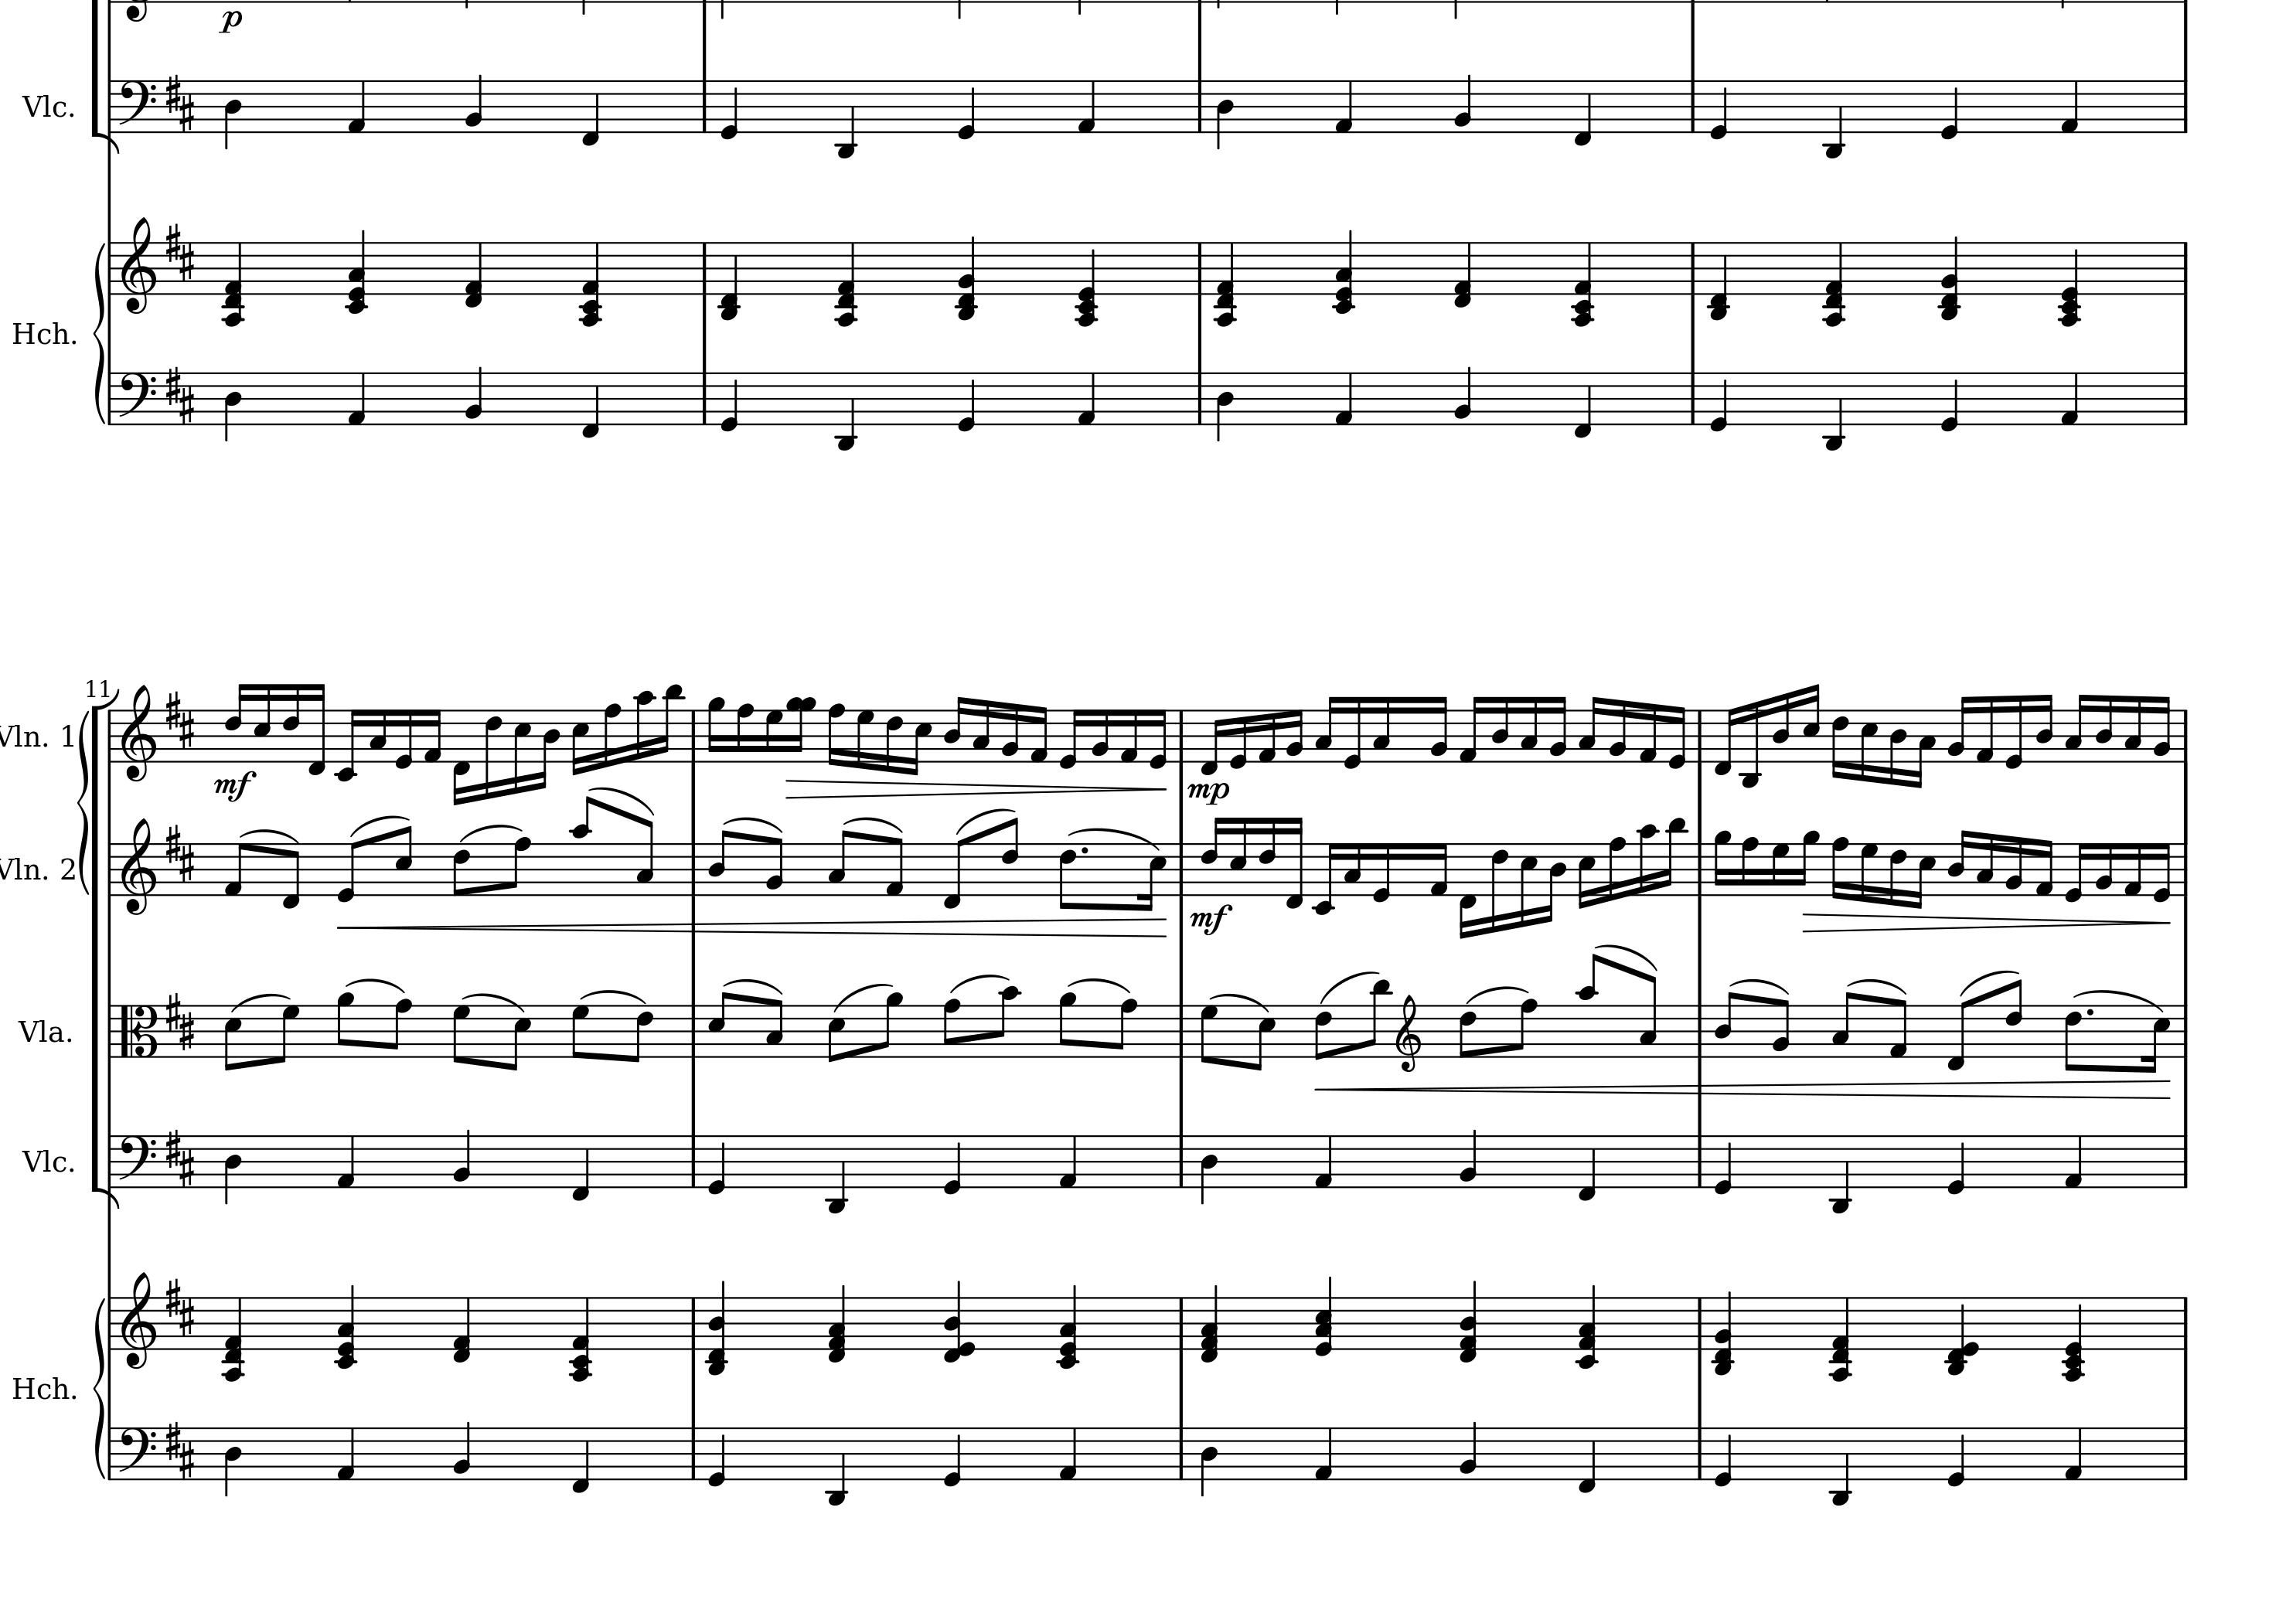1: (84, 676, 97, 697), (98, 676, 109, 697)
16_-1: (306, 680, 327, 776), (451, 708, 471, 804), (1284, 815, 1303, 910), (1460, 843, 1477, 938), (1200, 708, 1223, 776), (1715, 706, 1736, 775)
16_-2: (1312, 840, 1337, 915), (336, 706, 360, 780)
16_-3: (1739, 701, 1760, 789)
16_0: (1058, 706, 1084, 769), (2064, 840, 2089, 903), (2004, 692, 2024, 769), (1342, 694, 1361, 769), (1147, 708, 1168, 769), (1228, 708, 1249, 769), (1667, 704, 1686, 769), (1372, 840, 1391, 903), (393, 708, 413, 769), (2152, 841, 2171, 903)
16_1: (1458, 694, 1483, 764), (1975, 694, 1994, 764), (1637, 701, 1658, 764), (1028, 704, 1049, 764), (2032, 838, 2054, 898), (2122, 840, 2141, 898), (1119, 708, 1138, 764), (1258, 708, 1277, 764), (423, 708, 443, 762), (1430, 841, 1449, 896)
16_10: (632, 689, 655, 764), (1637, 822, 1658, 896)
16_11: (657, 682, 683, 764), (1662, 817, 1686, 898)
16_2: (1946, 694, 1969, 762), (1428, 696, 1449, 764), (2152, 694, 2171, 764), (1548, 694, 1567, 762), (1607, 697, 1627, 762), (1000, 701, 1019, 764), (2094, 840, 2115, 898), (2004, 834, 2024, 896), (1089, 708, 1110, 764), (1284, 708, 1303, 764)
16_3: (2062, 692, 2089, 762), (1913, 708, 1936, 789), (1578, 694, 1602, 762), (1314, 694, 1337, 764), (2122, 694, 2143, 762), (1372, 694, 1391, 762), (1520, 696, 1539, 762), (971, 697, 991, 762), (1975, 831, 1994, 896), (1342, 840, 1361, 896), (367, 708, 386, 762)
16_4: (536, 708, 560, 790), (1542, 841, 1567, 924), (943, 694, 968, 762), (1946, 827, 1971, 896), (1771, 690, 1792, 762), (1888, 708, 1908, 785), (2094, 692, 2115, 762), (2034, 692, 2054, 762), (1490, 694, 1509, 762)
16_5: (1137, 841, 1166, 913), (2141, 1003, 2170, 1075), (1228, 815, 1249, 896), (908, 708, 933, 776), (1911, 841, 1936, 910), (513, 708, 532, 794), (1801, 682, 1820, 762), (1520, 840, 1537, 927), (1859, 708, 1878, 782), (253, 682, 271, 762), (569, 708, 588, 776), (1576, 841, 1595, 908)
16_6: (1200, 815, 1224, 896), (223, 682, 248, 761), (483, 706, 502, 799), (1490, 841, 1509, 933), (281, 682, 300, 762), (1258, 815, 1277, 896), (1830, 708, 1850, 780), (884, 706, 903, 773), (1888, 840, 1908, 906)
16_7: (856, 706, 875, 769), (1859, 840, 1878, 903), (762, 708, 783, 764), (1769, 841, 1790, 898)
16_8: (601, 703, 622, 768), (826, 701, 845, 768), (1606, 836, 1625, 903), (1830, 834, 1850, 901), (1739, 834, 1758, 898), (734, 703, 754, 764)
16_9: (791, 696, 817, 764), (1795, 829, 1820, 898), (706, 696, 726, 764), (1713, 829, 1732, 898)
4_-1: (580, 77, 601, 146), (1572, 77, 1593, 146), (580, 369, 601, 437), (1572, 369, 1593, 437), (1576, 1133, 1597, 1201), (569, 1425, 590, 1493), (1576, 1425, 1597, 1493), (571, 1131, 590, 1201)
4_-1_1: (1451, 239, 1474, 309), (464, 241, 487, 309)
4_-3: (826, 1423, 848, 1507), (1829, 1423, 1852, 1507), (834, 77, 857, 160), (1822, 369, 1845, 451), (1822, 77, 1845, 158), (834, 371, 857, 451), (1829, 1133, 1852, 1214), (826, 1131, 847, 1214)
4_-3_-1: (1704, 241, 1732, 321), (717, 241, 741, 320)
4_0: (718, 77, 740, 141), (706, 1425, 727, 1488), (1713, 1425, 1734, 1488), (718, 371, 740, 432), (706, 1133, 727, 1194), (1713, 1133, 1734, 1194), (957, 77, 977, 141), (1709, 77, 1729, 141), (1939, 77, 1959, 141), (942, 1425, 961, 1488), (1946, 1425, 1966, 1488), (957, 371, 977, 432), (1709, 371, 1729, 432), (1939, 371, 1959, 432), (942, 1133, 961, 1194), (1946, 1133, 1966, 1194)
4_0_2: (451, 1295, 473, 1363)
4_1: (2059, 371, 2080, 427), (336, 1133, 357, 1189), (1058, 1133, 1079, 1189), (1312, 1133, 1333, 1189), (2062, 1133, 2083, 1189), (1333, 79, 1354, 133), (2059, 79, 2080, 133), (1333, 371, 1354, 425), (336, 1426, 357, 1481), (1058, 1426, 1079, 1481), (2062, 1426, 2083, 1481), (1077, 371, 1096, 427), (348, 79, 367, 133), (1077, 79, 1096, 133), (348, 371, 367, 425), (1314, 1426, 1333, 1481)
4_2: (464, 72, 485, 133), (1453, 72, 1474, 133), (464, 364, 485, 425), (1453, 364, 1474, 425), (1458, 1128, 1479, 1189), (451, 1419, 473, 1481), (1458, 1419, 1479, 1481), (453, 1128, 473, 1189)
4_4: (223, 369, 244, 441), (223, 1425, 244, 1495), (1216, 369, 1235, 441), (223, 1133, 242, 1205), (1200, 1133, 1219, 1205), (1200, 1425, 1219, 1497), (1216, 77, 1235, 148), (223, 79, 242, 148)
4_th: (567, 1295, 594, 1381), (706, 1279, 729, 1377), (1212, 242, 1238, 327), (1332, 228, 1356, 314), (954, 235, 978, 321), (221, 241, 246, 327), (334, 1284, 358, 1370), (221, 1296, 246, 1382), (1829, 1296, 1853, 1382), (1056, 1284, 1080, 1368), (1574, 1284, 1599, 1368), (1711, 1291, 1736, 1375), (1073, 244, 1098, 327), (2061, 1300, 2085, 1381), (344, 228, 367, 314), (834, 241, 857, 327), (1570, 241, 1593, 327), (1938, 235, 1960, 320), (1823, 242, 1846, 327), (2057, 244, 2080, 327), (1312, 1275, 1335, 1356), (580, 241, 601, 327), (1458, 1280, 1479, 1363), (826, 1284, 847, 1363), (1200, 1284, 1219, 1363)
8_-1: (942, 834, 970, 910), (1945, 998, 1973, 1073), (281, 841, 300, 910)
8_0: (336, 838, 362, 903)
8_1: (221, 840, 248, 896), (884, 834, 905, 898), (1887, 998, 1908, 1059)
8_10: (1576, 952, 1604, 1061), (567, 794, 596, 898), (993, 985, 1019, 1059)
8_11: (1363, 977, 1391, 1057)
8_2: (764, 834, 783, 898), (1771, 996, 1790, 1059)
8_3: (1637, 971, 1658, 1061), (826, 829, 852, 898), (1830, 991, 1857, 1059), (636, 817, 655, 898), (764, 998, 783, 1059)
8_4: (1713, 991, 1739, 1059), (706, 829, 733, 896)
8_5: (506, 1003, 532, 1071), (1251, 1003, 1277, 1071), (706, 989, 731, 1057), (393, 824, 413, 896), (223, 1003, 242, 1071), (826, 1003, 845, 1063)
8_6: (2004, 977, 2024, 1059), (1000, 817, 1019, 896), (629, 1001, 653, 1063), (2062, 1003, 2083, 1071), (1058, 841, 1077, 910), (1314, 1003, 1333, 1061), (451, 841, 471, 898), (1458, 1003, 1477, 1059)
8_7: (274, 1003, 300, 1063), (451, 1003, 471, 1064), (1200, 1003, 1219, 1064), (571, 1003, 590, 1059)
8_8: (504, 834, 531, 898), (386, 998, 413, 1059), (1110, 998, 1137, 1059), (1513, 996, 1537, 1057), (942, 998, 961, 1059)
8_9: (877, 991, 903, 1057), (336, 991, 355, 1057), (1058, 991, 1077, 1057)
Brace: (91, 239, 105, 425), (76, 706, 90, 892), (91, 1295, 105, 1481)
Bracke: (91, 645, 119, 1105)
Cclef: (118, 1001, 158, 1057)
Crescendo_hairpin: (1316, 1077, 2173, 1103), (336, 915, 1172, 941)
D_S: (163, 220, 195, 281), (163, 362, 195, 423), (163, 820, 195, 882), (163, 70, 195, 130), (163, 689, 195, 748), (163, 991, 195, 1050), (163, 1126, 195, 1186), (163, 1275, 195, 1335), (163, 1417, 195, 1477)
Diminuendo_hairpin: (1802, 912, 2175, 936)
Fclef: (118, 77, 156, 133), (118, 1133, 156, 1189), (118, 1425, 156, 1481), (118, 371, 156, 425)
Gclef: (119, 683, 156, 783), (119, 1270, 156, 1370), (119, 216, 156, 314), (119, 817, 156, 915), (1395, 992, 1421, 1073)
Hch: (11, 314, 70, 348), (7, 1374, 70, 1403)
Single_barline: (1173, 1003, 1189, 1057), (1193, 79, 1209, 132), (2177, 843, 2192, 896), (2177, 1005, 2192, 1057), (2177, 1296, 2192, 1349), (1173, 1426, 1189, 1479), (1692, 1426, 1708, 1479), (2177, 1426, 2192, 1479), (697, 79, 713, 130), (2177, 81, 2192, 132), (1685, 242, 1700, 293), (2177, 242, 2192, 293), (697, 372, 713, 423), (1685, 372, 1700, 423), (2177, 372, 2192, 423), (1173, 710, 1189, 761), (685, 1005, 701, 1056), (2177, 1135, 2192, 1186), (2178, 708, 2192, 762), (1693, 841, 1708, 896), (1686, 79, 1700, 132), (104, 843, 118, 896), (1173, 843, 1188, 896), (1692, 1296, 1706, 1349), (687, 1426, 701, 1479), (697, 242, 711, 293), (1193, 242, 1207, 293), (1193, 372, 1207, 423), (104, 710, 118, 761), (1693, 1005, 1708, 1056), (687, 1135, 701, 1186), (1173, 1135, 1188, 1186), (1693, 1135, 1708, 1186), (1173, 1298, 1188, 1349), (1693, 710, 1706, 762), (104, 81, 116, 132), (105, 372, 118, 423), (687, 710, 699, 761), (687, 843, 699, 894), (104, 1005, 116, 1056), (104, 1135, 116, 1186), (105, 1426, 118, 1477), (687, 1298, 699, 1347), (105, 1296, 116, 1349), (105, 242, 116, 293)
Slur: (1065, 824, 1159, 848), (1319, 970, 1379, 1005), (587, 785, 657, 813), (2071, 989, 2162, 1010), (833, 982, 892, 1012), (1593, 941, 1658, 968), (1959, 968, 2018, 994), (952, 806, 1015, 831), (1210, 991, 1270, 1013), (462, 991, 525, 1012), (348, 813, 409, 834), (458, 822, 523, 841), (578, 987, 648, 1005), (1463, 984, 1527, 1003), (949, 973, 1010, 992), (1846, 975, 1908, 994), (230, 992, 292, 1012), (1066, 975, 1131, 992), (840, 815, 906, 831), (722, 815, 783, 831), (239, 826, 300, 841), (344, 977, 406, 992), (722, 977, 782, 992), (1729, 977, 1788, 992)
Vla: (18, 1013, 67, 1050)
Vlc: (19, 1143, 69, 1179), (21, 90, 67, 123)
Vln: (0, 850, 42, 885), (0, 720, 42, 752)
dot: (1079, 843, 1089, 855), (2085, 1005, 2096, 1017)
mf: (1188, 901, 1231, 938), (213, 769, 256, 803)
mp: (1186, 780, 1231, 808)
p: (218, 9, 244, 33)
